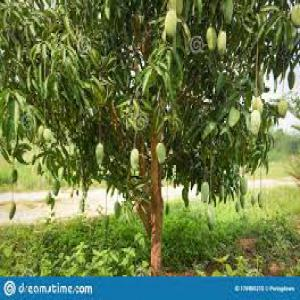Tree: (1, 2, 298, 273)
